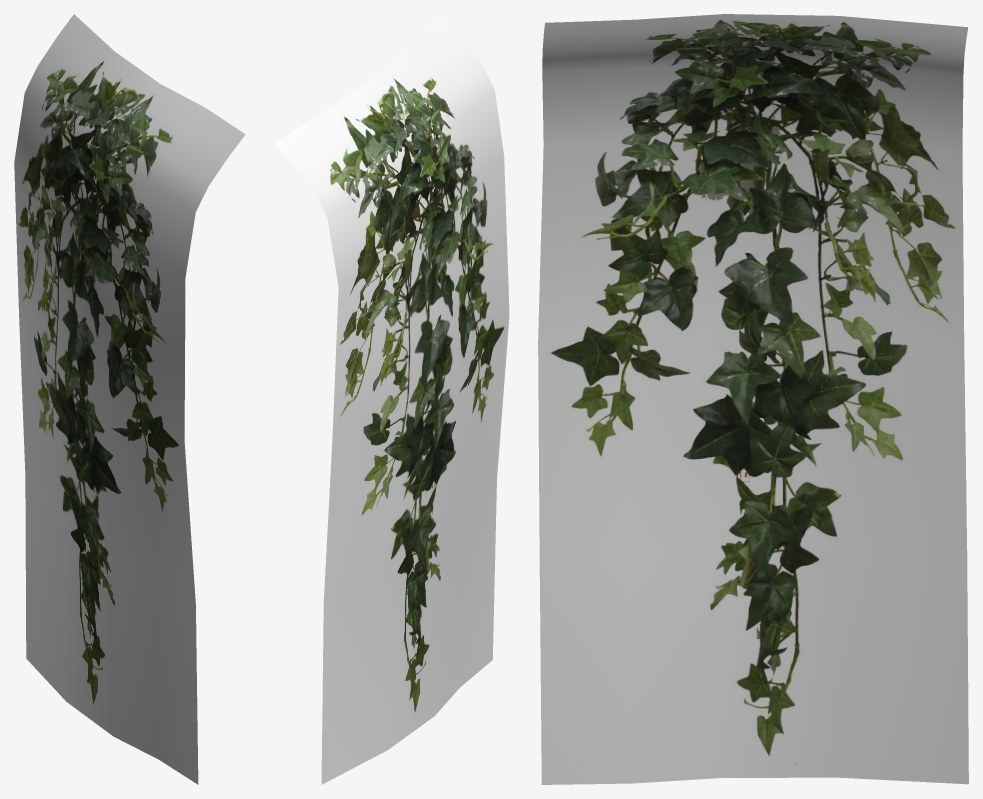
The model's file is Ivy.fbx.
The picture shows the model from 3 angles, left to right: view 1: azimuth 30°, elevation 25°; view 2: azimuth 150°, elevation 25°; view 3: azimuth 270°, elevation 25°; orthographic projection. The views are drawn at different scales.
Visible parts, largest first — view 1: Plane; view 2: Plane; view 3: Plane.
Boxes of the visible parts, box(x1,y1,x2,y2) form: Plane: box(14, 14, 245, 784); Plane: box(275, 14, 509, 784); Plane: box(538, 14, 968, 784).
Bounding box in the file's own units: 25.51 × 193 × 94.81.
